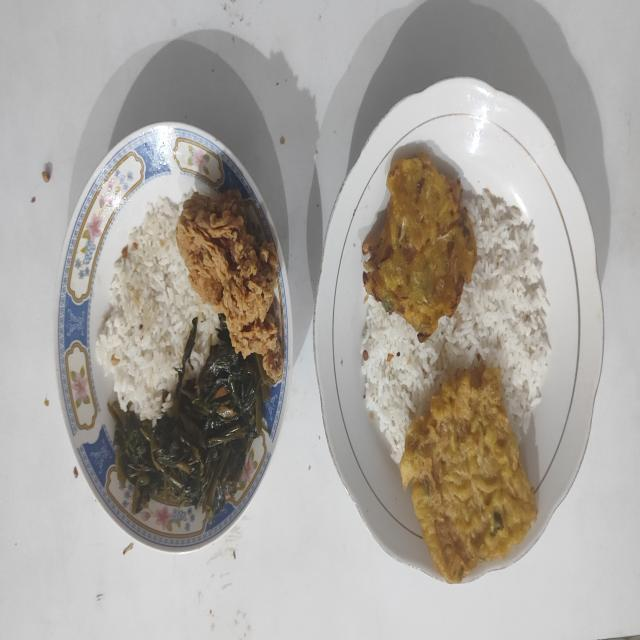nasi_putih: (362, 190, 550, 462), (96, 198, 220, 420)
tumis_kangkung: (108, 316, 270, 518)
